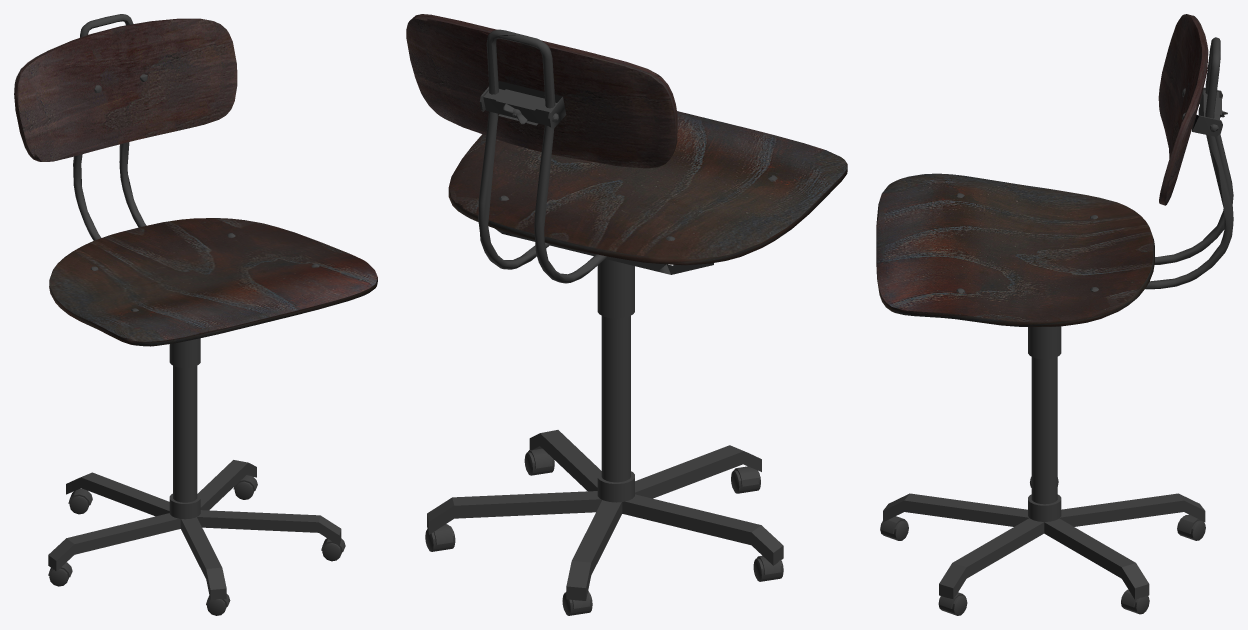
Rendered from Chair.FBX.
The picture shows the model from 3 angles, left to right: view 1: azimuth 30°, elevation 25°; view 2: azimuth 150°, elevation 25°; view 3: azimuth 270°, elevation 25°; orthographic projection. The views are drawn at different scales.
Parts seen in each view (by area): view 1: chair; view 2: chair; view 3: chair.
Part boxes in pixels (x1,y1,x2,y2): chair: [14, 14, 377, 615]; chair: [406, 14, 847, 615]; chair: [876, 14, 1233, 615].
Bounding box in the file's own units: 54.63 × 91.8 × 58.01.
2 materials, 1 textured.
